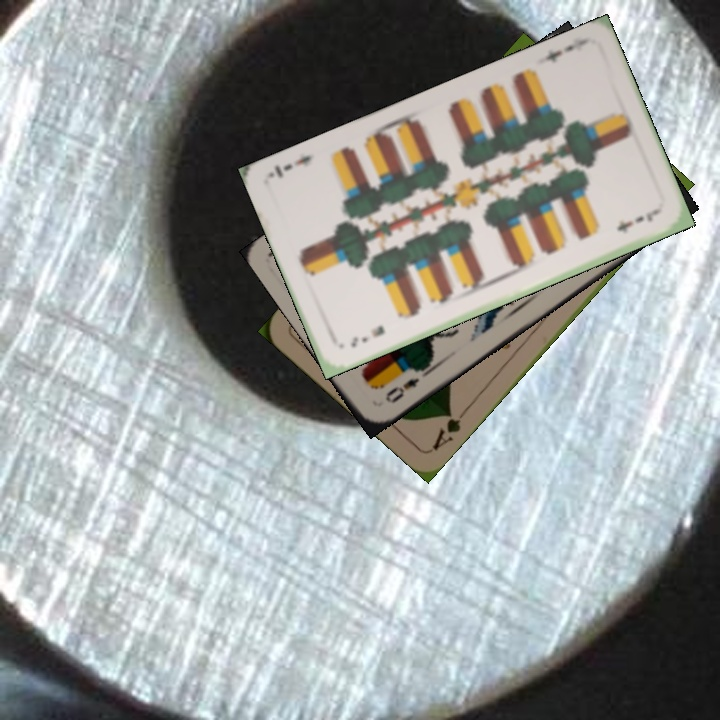E7: (347, 321, 387, 350), (540, 40, 578, 66)
EO: (381, 373, 422, 406)
GA: (428, 403, 471, 453)
